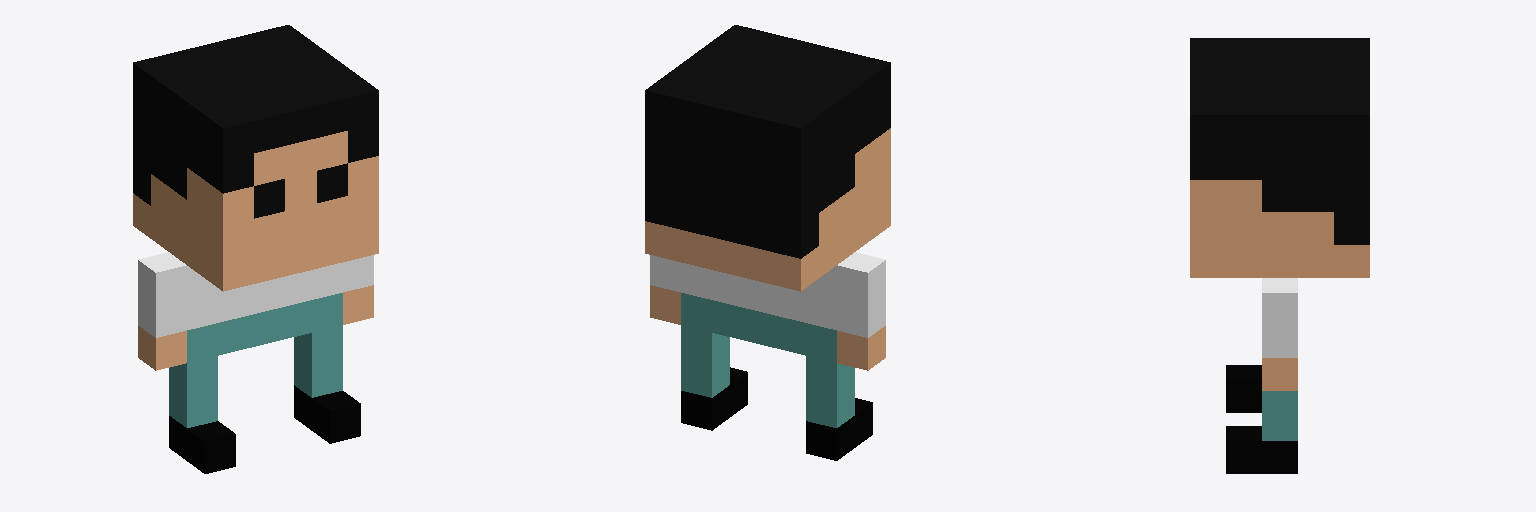
3 renders of one model, left to right at view 1: azimuth 30°, elevation 25°; view 2: azimuth 150°, elevation 25°; view 3: azimuth 270°, elevation 25°, orthographic.
Parts seen in each view (by area): view 1: object 1; view 2: object 1; view 3: object 1.
Part boxes in pixels (left/top/right/bottom): object 1: left=133, top=25, right=378, bottom=473; object 1: left=645, top=25, right=890, bottom=460; object 1: left=1190, top=38, right=1369, bottom=473.
Size of the model in its own units: 0.7 by 1.1 by 0.5.
1 materials, 1 textured.